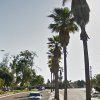Palm tree: (36, 6, 92, 95)
